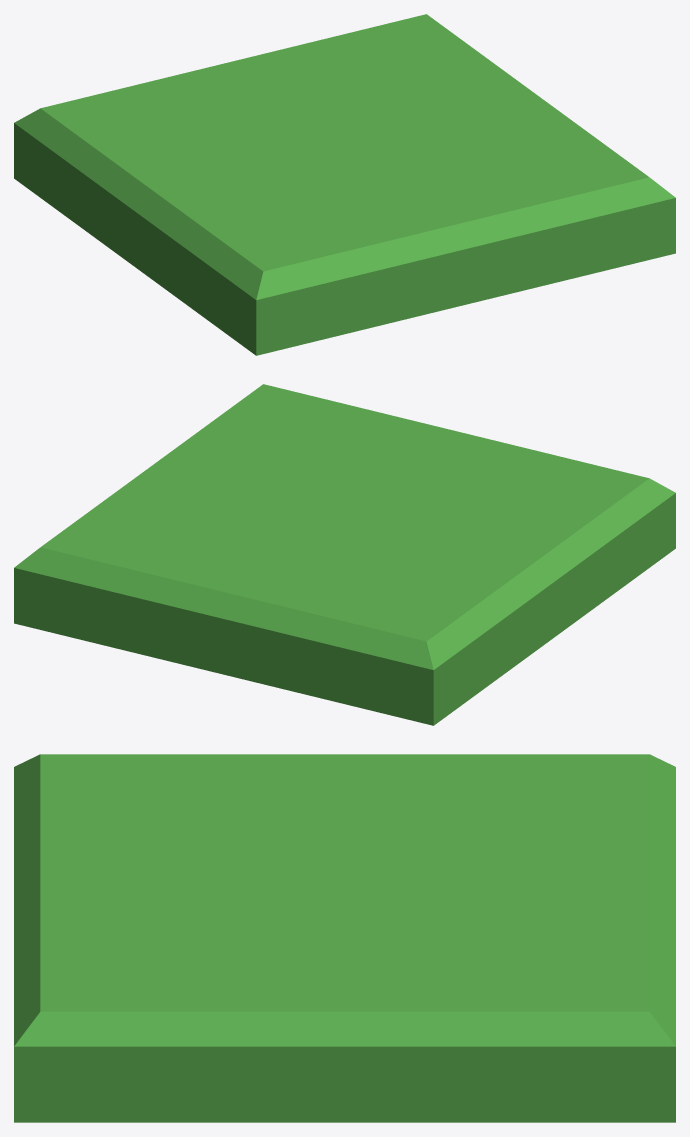
File: GrassTile.fbx
3 views of the same model, one above another, from view 1: azimuth 30°, elevation 25°; view 2: azimuth 150°, elevation 25°; view 3: azimuth 270°, elevation 25° (orthographic). The views are drawn at different scales.
Parts seen in each view (by area): view 1: Cube; view 2: Cube; view 3: Cube.
Boxes of the visible parts, left/top/right/bottom form: Cube: left=14, top=14, right=675, bottom=355; Cube: left=14, top=384, right=675, bottom=725; Cube: left=14, top=754, right=675, bottom=1122.
Bounding box in the file's own units: 600 × 100 × 600.
